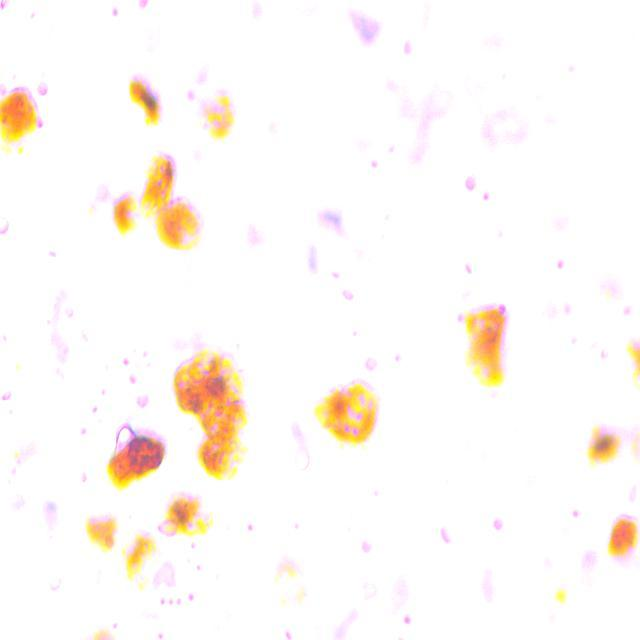Healthy cell: (313, 205, 357, 236), (352, 9, 386, 45)
cancer-cell-QiJm: (176, 346, 246, 479), (458, 302, 518, 392), (320, 378, 380, 443), (106, 438, 169, 494), (163, 193, 211, 260), (133, 145, 177, 208), (582, 416, 624, 474), (198, 92, 240, 145), (130, 72, 166, 132), (3, 83, 42, 137), (77, 509, 121, 554), (609, 510, 640, 570), (157, 489, 201, 531), (278, 552, 310, 609), (124, 524, 160, 572), (110, 192, 138, 240), (9, 438, 28, 476), (127, 574, 154, 600), (629, 420, 640, 471), (196, 510, 212, 543), (3, 136, 27, 156), (629, 338, 640, 380), (552, 580, 568, 608), (398, 606, 414, 632), (568, 499, 582, 524), (94, 620, 110, 640), (554, 253, 568, 274)
